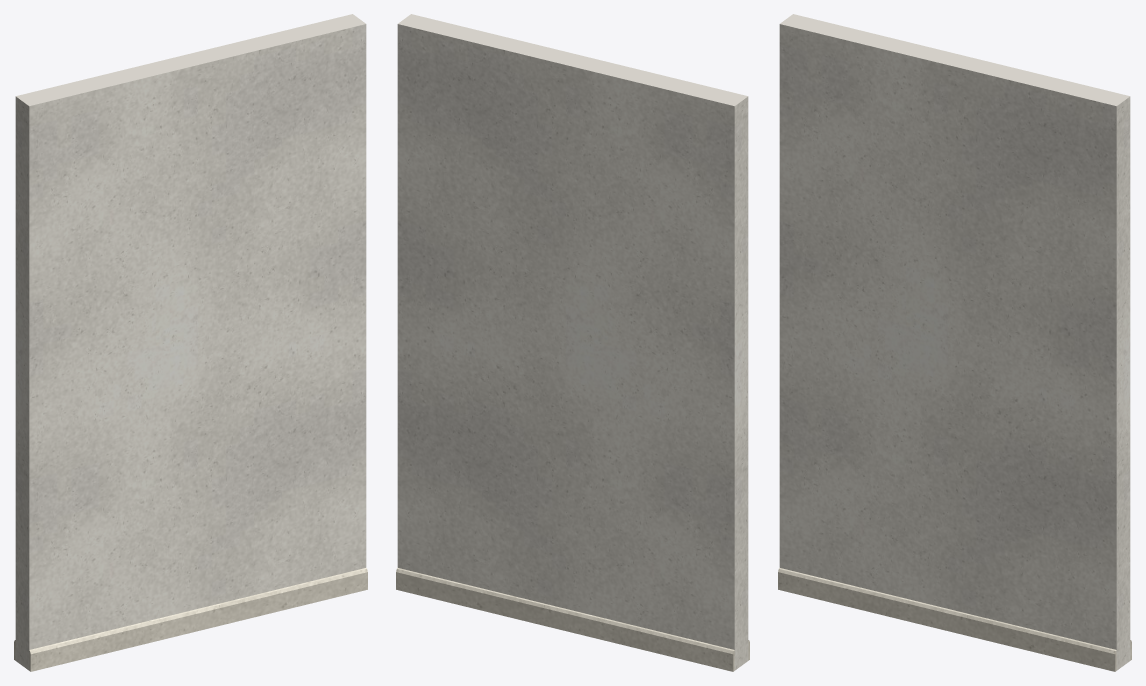
Rendered from iw1_plain.glb.
3 views of the same model, side by side, from view 1: azimuth 30°, elevation 25°; view 2: azimuth 150°, elevation 25°; view 3: azimuth 330°, elevation 25° (orthographic).
Visible parts, largest first — view 1: iw1_plain_plaster, iw1_plain_trim; view 2: iw1_plain_plaster, iw1_plain_trim; view 3: iw1_plain_plaster, iw1_plain_trim.
Boxes of the visible parts, box(x1,y1,x2,y2) form: iw1_plain_plaster: box(15, 14, 366, 670); iw1_plain_trim: box(14, 568, 367, 671); iw1_plain_plaster: box(397, 14, 748, 670); iw1_plain_trim: box(396, 568, 749, 671); iw1_plain_plaster: box(779, 14, 1130, 670); iw1_plain_trim: box(778, 568, 1131, 671).
Size of the model in its own units: 2 by 3.2 by 0.172.
Materials: 2 (2 with a texture image).
